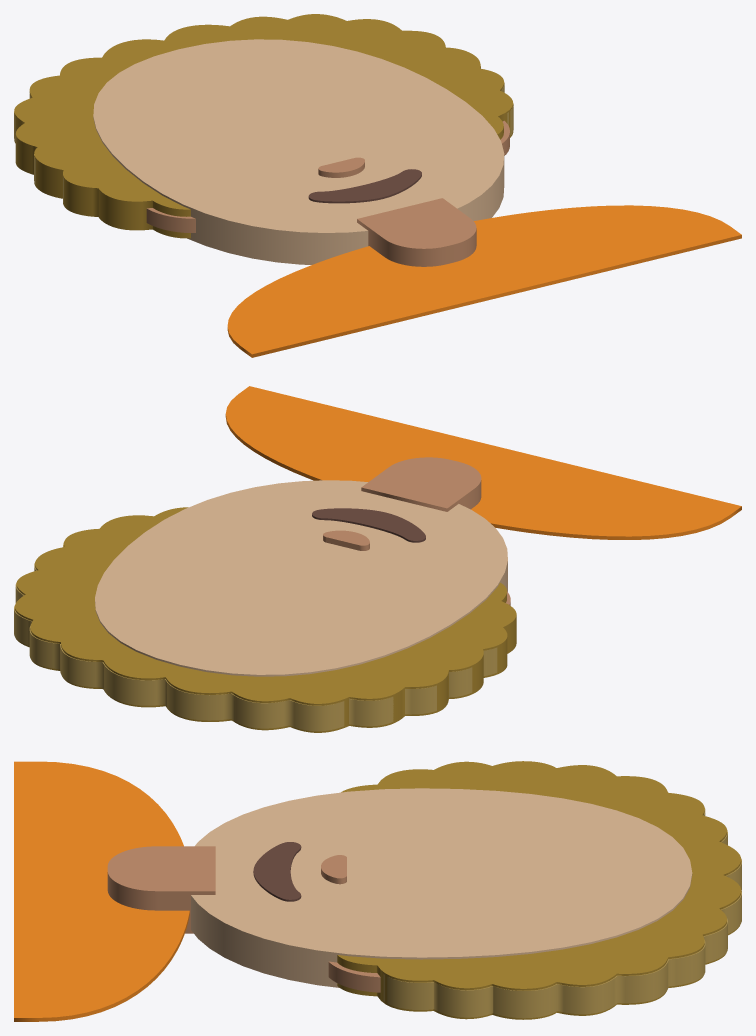
The model's file is emoji_u1f9d1_1f3fc_200d_1f9b1.glb.
3 views of the same model, one above another, from view 1: azimuth 30°, elevation 25°; view 2: azimuth 150°, elevation 25°; view 3: azimuth 270°, elevation 25° (orthographic). The views are drawn at different scales.
Visible parts, largest first — view 1: emoji_u1f9d1_1f3fc_200d_1f9b1; view 2: emoji_u1f9d1_1f3fc_200d_1f9b1; view 3: emoji_u1f9d1_1f3fc_200d_1f9b1.
Boxes of the visible parts, bbox=[...] form: emoji_u1f9d1_1f3fc_200d_1f9b1: bbox=[14, 14, 741, 357]; emoji_u1f9d1_1f3fc_200d_1f9b1: bbox=[14, 386, 741, 732]; emoji_u1f9d1_1f3fc_200d_1f9b1: bbox=[14, 761, 741, 1021].
Size of the model in its own units: 0.0284 by 0.0024 by 0.0341.
